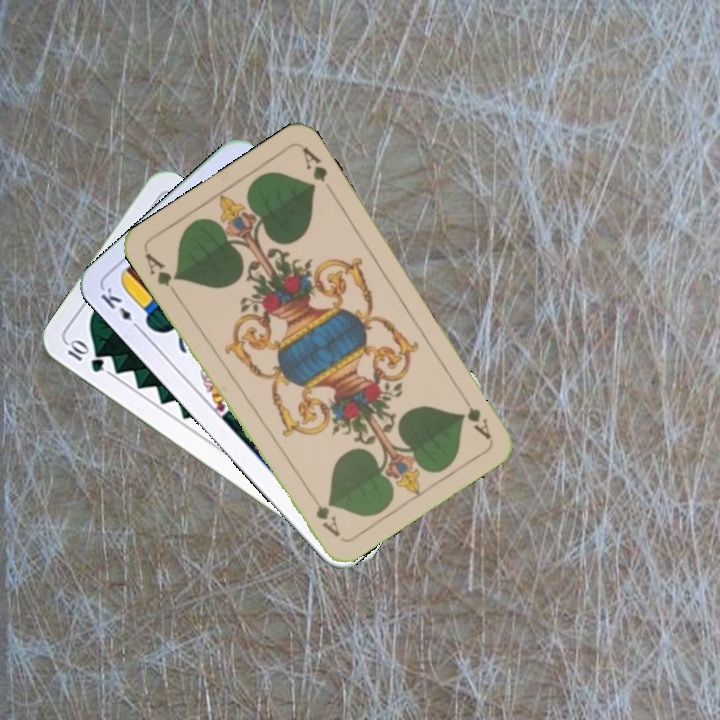EK: (96, 283, 144, 334)
G10: (62, 336, 107, 376)
GA: (455, 388, 494, 442), (141, 248, 181, 299)
